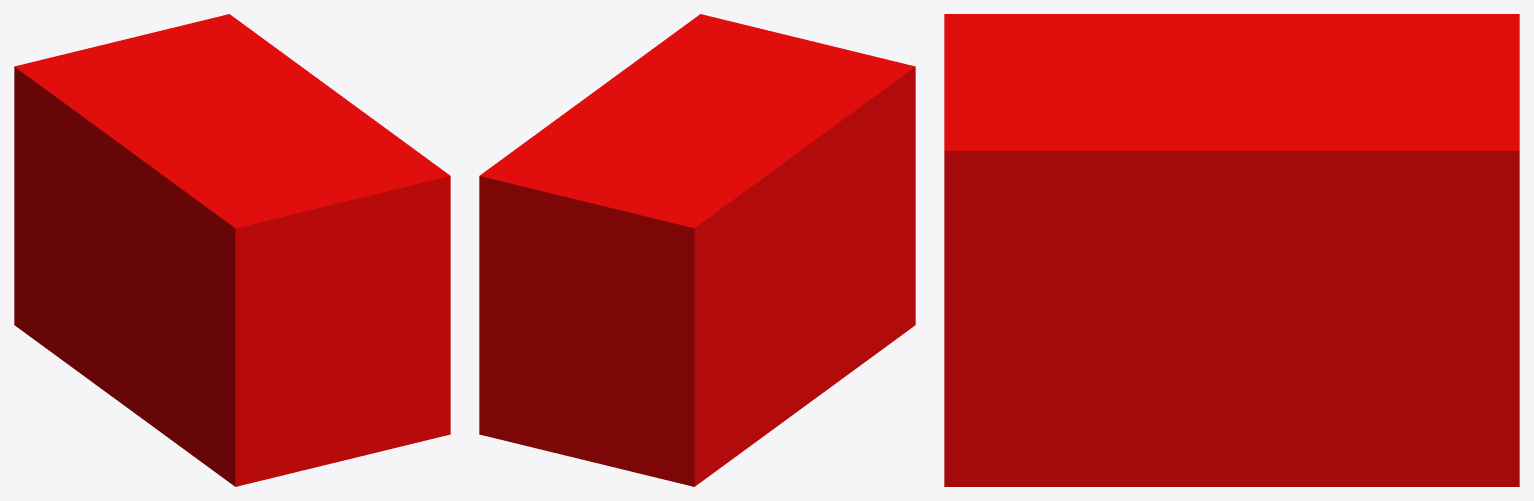
Rendered from fingers18_col.dae.
3 views of the same model, side by side, from view 1: azimuth 30°, elevation 25°; view 2: azimuth 150°, elevation 25°; view 3: azimuth 270°, elevation 25° (orthographic). The views are drawn at different scales.
Visible parts, largest first — view 1: node0; view 2: node0; view 3: node0.
Part boxes in pixels (x1,y1,x2,y2): node0: [14, 14, 450, 486]; node0: [479, 14, 915, 486]; node0: [944, 14, 1519, 486].
Size of the model in its own units: 0.021 by 0.0241 by 0.0374.
